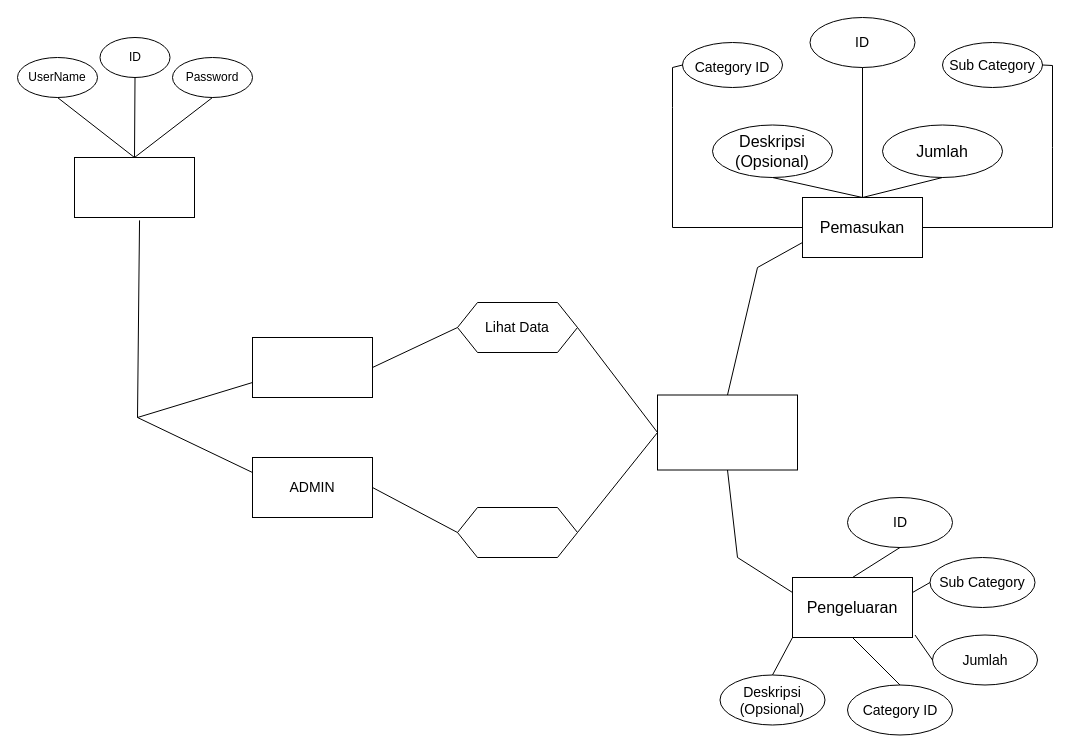
Image size: 1071x753. Some labels were removed from this diagram. The shapes that lost their labels are listed below. From the top down, each one's centre as x and y in pixels, then its label:
(x=134, y=187): Pengguna
(x=312, y=367): CEO
(x=727, y=432): Data Transaksi
(x=517, y=532): Input Data
